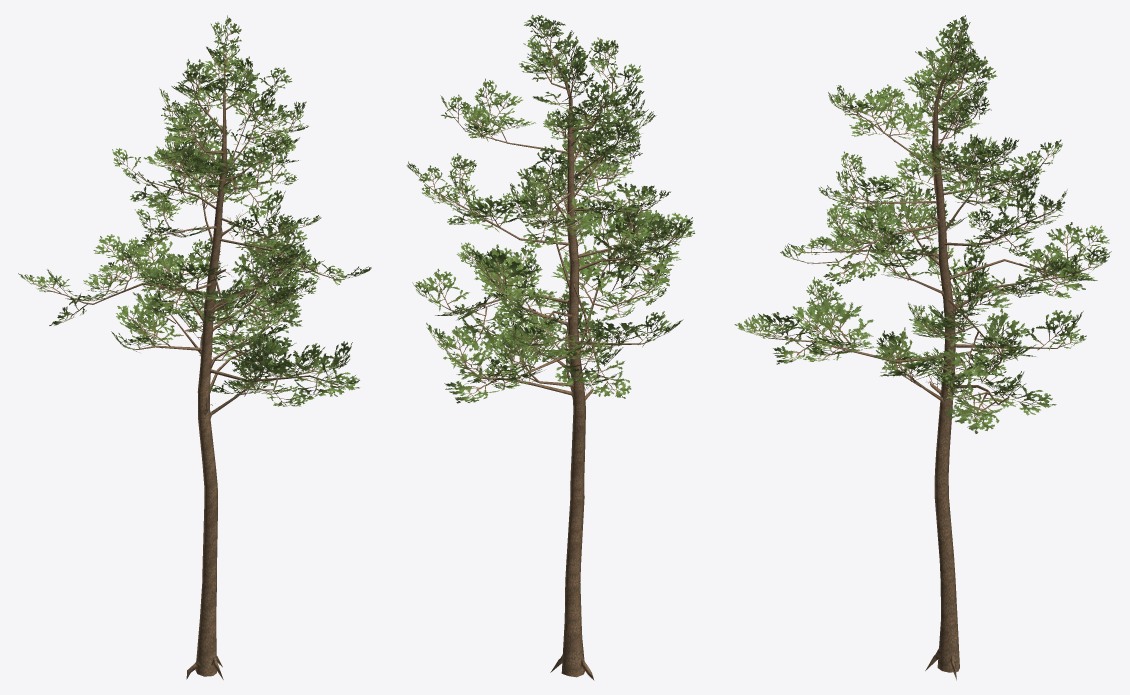
The picture shows the model from 3 angles, left to right: view 1: azimuth 30°, elevation 25°; view 2: azimuth 150°, elevation 25°; view 3: azimuth 270°, elevation 25°; orthographic projection. The views are drawn at different scales.
Parts seen in each view (by area): view 1: Pine_large_3_LOD2_Bark_Mat_0; view 2: Pine_large_3_LOD2_Bark_Mat_0; view 3: Pine_large_3_LOD2_Bark_Mat_0.
Boxes of the visible parts, x1,y1,x2,y2 form: Pine_large_3_LOD2_Bark_Mat_0: (18,15,371,679); Pine_large_3_LOD2_Bark_Mat_0: (406,14,694,680); Pine_large_3_LOD2_Bark_Mat_0: (734,15,1111,680).
Bounding box in the file's own units: 12.39 × 30.06 × 15.81.
